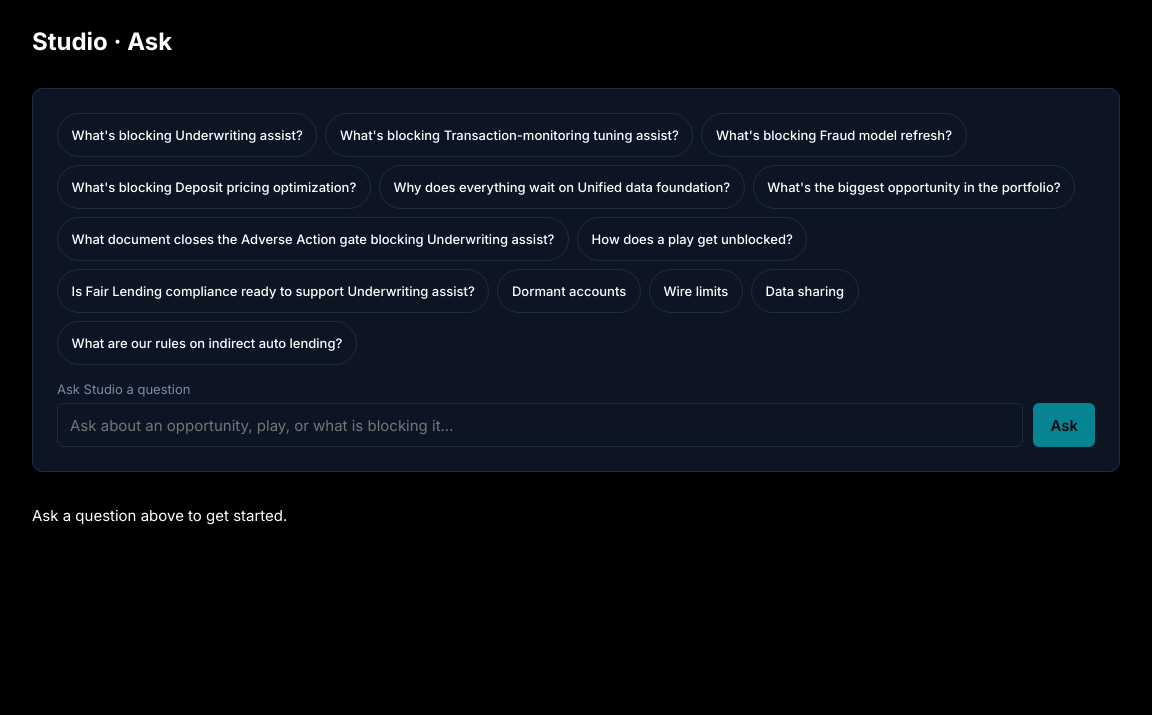
Test: Ask Studio (amendment A20) — a scripted deep link fires the existing DeepLinkRequest path end to end, from the response canvas's own Artifacts list › the "See in OnSide" action label does NOT vary with the entry's authored deepLinks[].label (Amendment A20.1)
The width and height of the screenshot is (1152, 715).
Type "Is Fair Lending compliance ready to support Underwriting assist?" into the field labelled "Ask Studio a question" at (540, 425), box [57,403,1023,447]
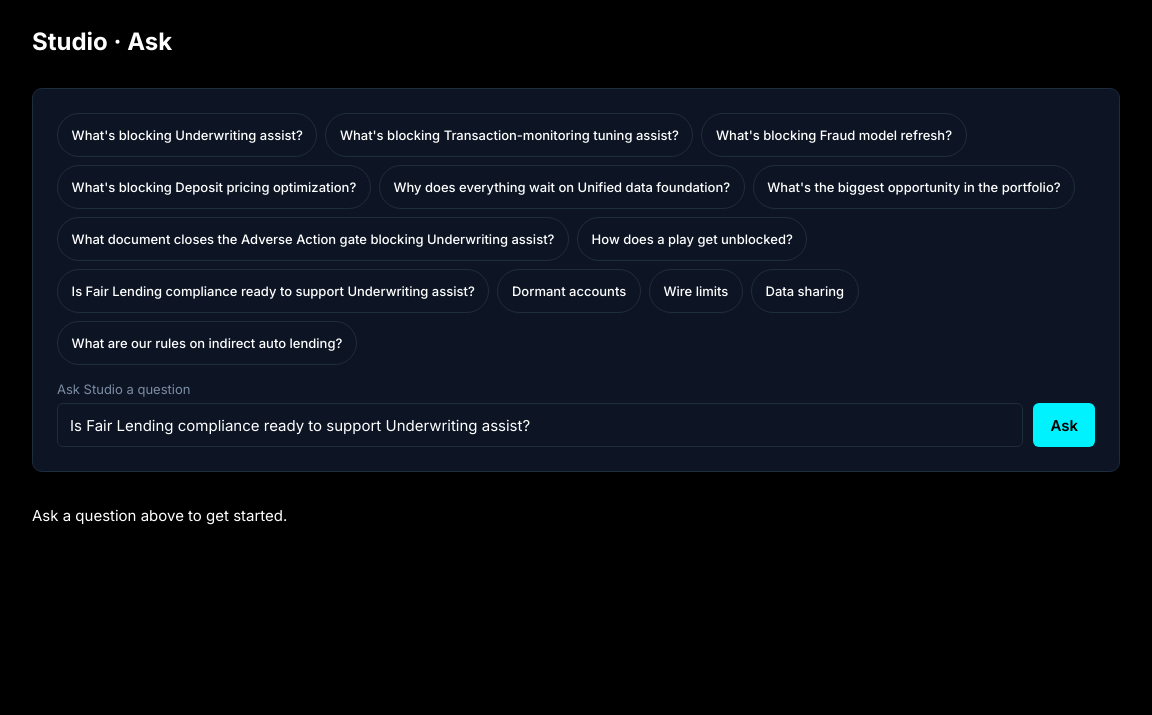
Click the button "Ask" at (1064, 425), box [1033,403,1095,447]
Wait 800 ms
(page scrolled)
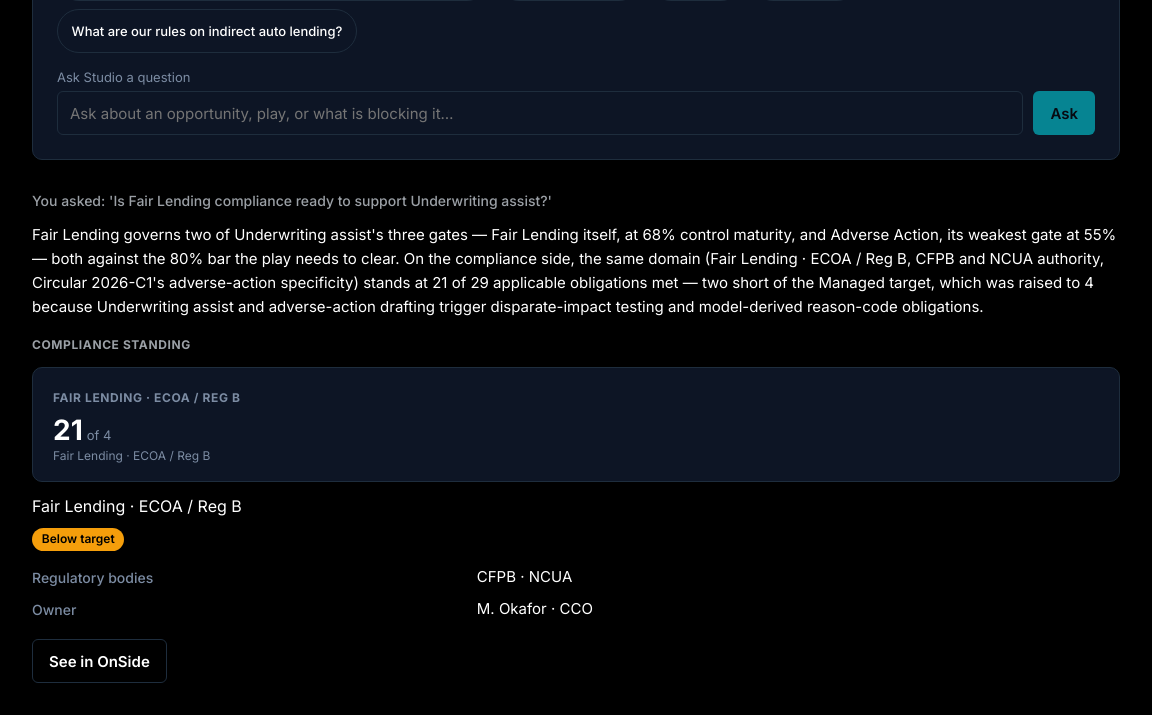
Expected: the button "See in OnSide" is shown, [32,639,167,683]
